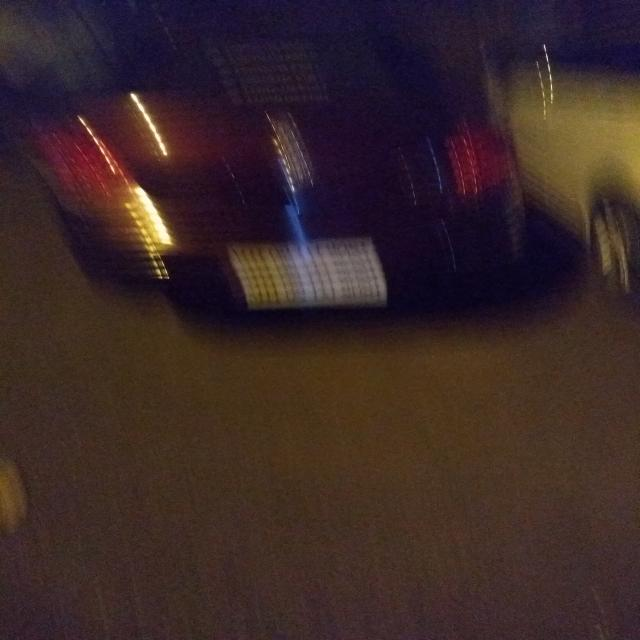Number-Plate: (228, 248, 385, 302)
